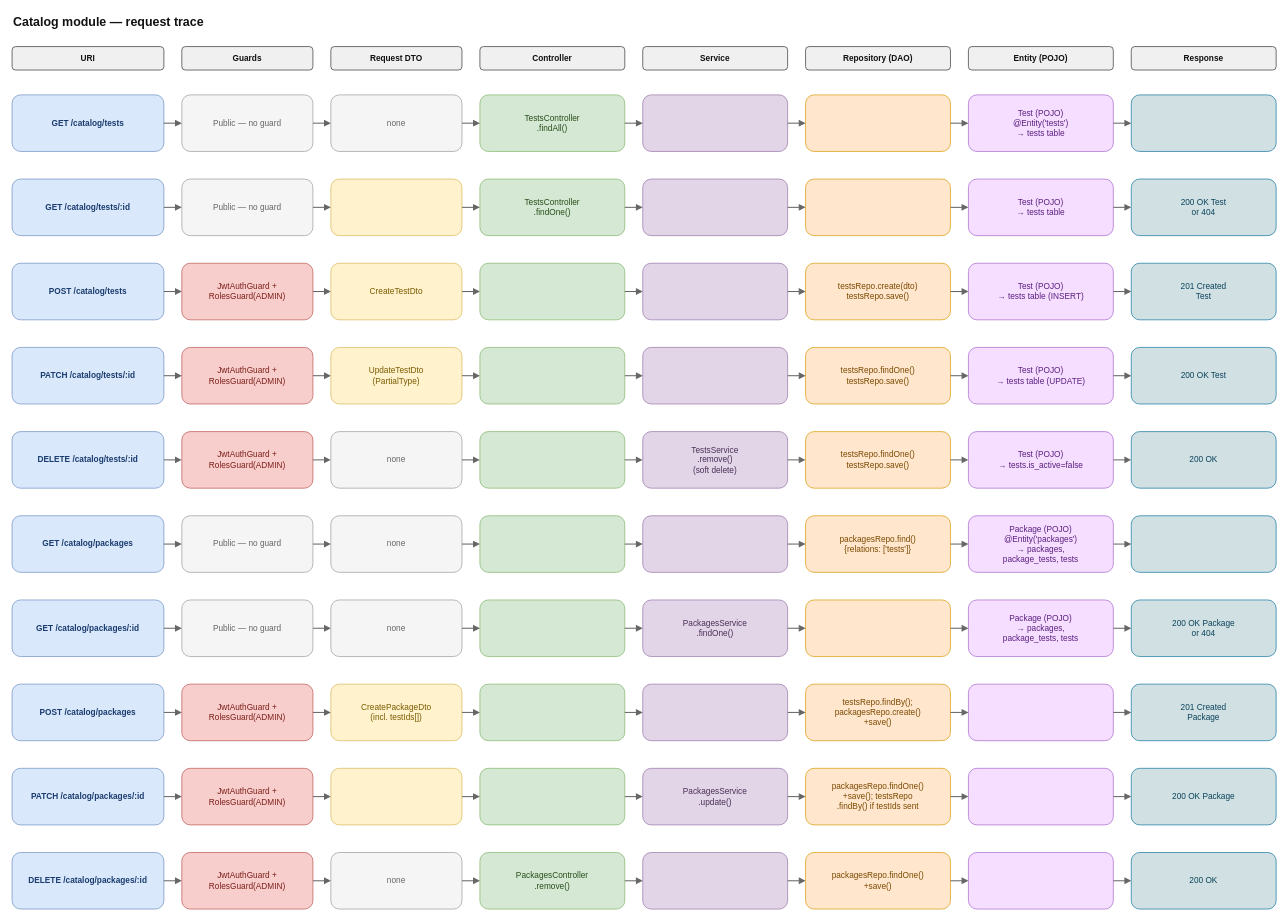
Some shapes in this 1288 by 921 pixel diagram are drawn without their labels. The centre of each missing label's shape, as x and y in pixels:
200 OK Package[]: point (1203, 543)
200 OK Test[]: point (1203, 122)
none (Param id): point (396, 207)
Package (POJO) → packages, package_tests: point (1040, 796)
Package (POJO) → packages.is_active =false: point (1040, 880)
PackagesController .create(): point (552, 712)
PackagesController .findAll(): point (552, 543)
PackagesController .findOne(): point (552, 628)
PackagesController .update(): point (552, 796)
packagesRepo.findOne() {relations: ['tests']}: point (877, 628)
PackagesService .create() (resolves testIds): point (715, 712)
PackagesService .findAllActive(): point (715, 543)
PackagesService .remove() (soft delete): point (715, 880)
Test + Package (POJOs) → tests, packages, package_tests: point (1040, 712)
TestsController .create(): point (552, 291)
TestsController .remove(): point (552, 459)
TestsController .update(): point (552, 375)
testsRepo.find() {where: isActive}: point (877, 122)
testsRepo.findOne() {where: id}: point (877, 207)
TestsService .create(): point (715, 291)
TestsService .findAllActive(): point (715, 122)
TestsService .findOne(): point (715, 207)
TestsService .update(): point (715, 375)
UpdatePackageDto: point (396, 796)
